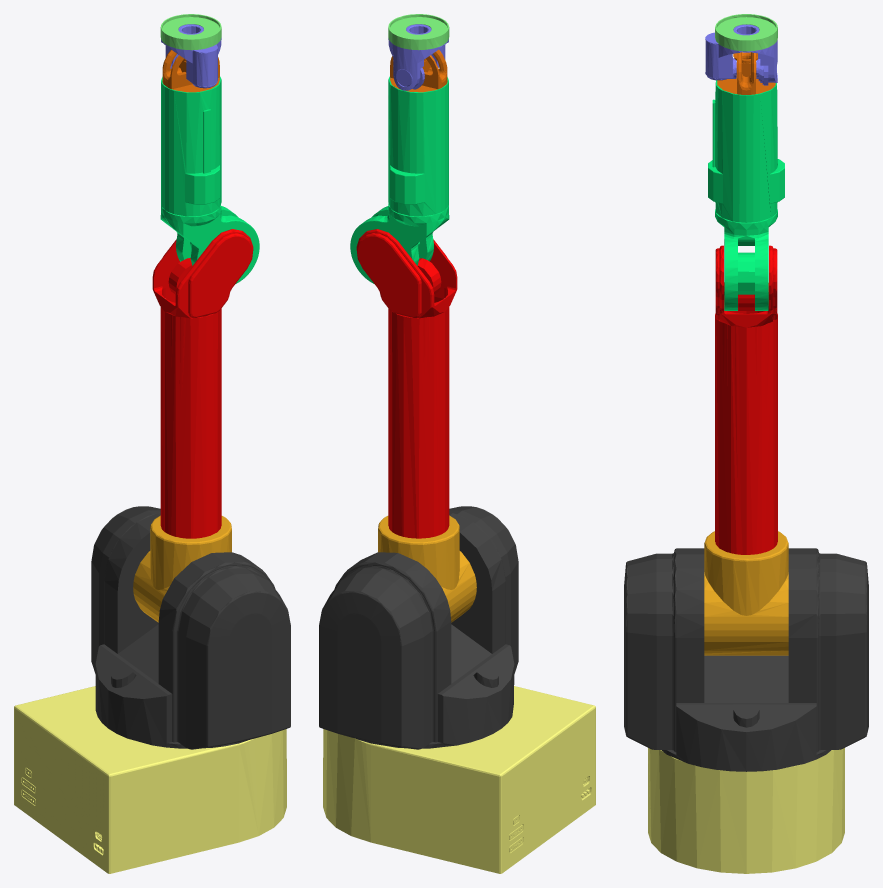
Rendered from barrett-wam.dae.
The picture shows the model from 3 angles, left to right: view 1: azimuth 30°, elevation 25°; view 2: azimuth 150°, elevation 25°; view 3: azimuth 270°, elevation 25°; orthographic projection. The views are drawn at different scales.
Parts seen in each view (by area): view 1: wam1, wam0, wam3, wam4, wam2, wam7, wam6, wam5; view 2: wam1, wam0, wam3, wam4, wam2, wam6, wam7, wam5; view 3: wam1, wam0, wam3, wam4, wam2, wam6, wam7, wam5.
Part boxes in pixels (<box>): wam1: <box>91,506,290,749</box>; wam0: <box>14,686,286,873</box>; wam3: <box>152,229,253,538</box>; wam4: <box>160,76,259,283</box>; wam2: <box>133,515,231,622</box>; wam7: <box>160,14,221,50</box>; wam6: <box>161,24,221,88</box>; wam5: <box>162,49,219,92</box>; wam1: <box>319,506,518,749</box>; wam0: <box>323,686,595,873</box>; wam3: <box>356,229,457,538</box>; wam4: <box>350,76,449,283</box>; wam2: <box>378,515,476,622</box>; wam6: <box>388,24,448,90</box>; wam7: <box>388,14,449,50</box>; wam5: <box>390,49,447,92</box>; wam1: <box>624,548,868,771</box>; wam0: <box>648,748,844,873</box>; wam3: <box>715,245,777,554</box>; wam4: <box>708,80,784,310</box>; wam2: <box>704,531,788,655</box>; wam6: <box>705,24,777,85</box>; wam7: <box>715,14,777,51</box>; wam5: <box>717,52,775,94</box>.
Bounding box in the file's own units: 0.36 × 0.3476 × 1.26.
